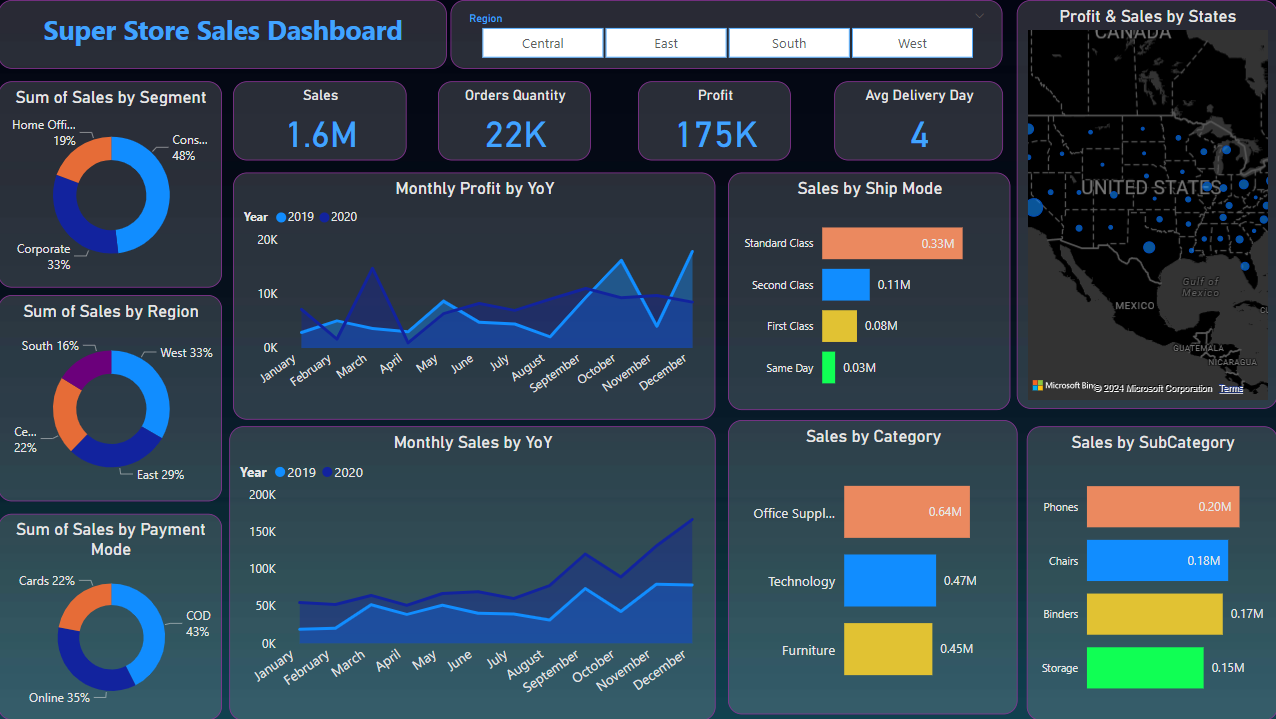

The page's visual inventory and layout, read from the dashboard file:
{"tool":"powerbi","page":{"name":"Page 1","canvas":[1280,720],"ordinal":0},"visuals":[{"type":"clusteredBarChart","title":"Sales by Category","fields":{"Category":["Sheet1.Category"],"Y":["Sum(Sheet1.Sales)"]},"box":[729.6,419.7,289.4,294.3],"z":0},{"type":"clusteredBarChart","title":"Sales by SubCategory","fields":{"Y":["Sum(Sheet1.Sales)"],"Category":["Sheet1.Sub-Category"]},"box":[1028.7,425.7,250.9,294.3],"z":1000},{"type":"clusteredBarChart","title":"Sales by Ship Mode","fields":{"Y":["Sum(Sheet1.Sales)"],"Category":["Sheet1.Ship Mode"]},"box":[729.6,172.5,282.2,237.6],"z":2000},{"type":"areaChart","title":"Monthly Sales by YoY","fields":{"Y":["Sum(Sheet1.Sales)"],"Category":["Sheet1.Order Date.Variation.Date Hierarchy.Month","Sheet1.Order Date.Variation.Date Hierarchy.Day"],"Series":["Sheet1.Order Date.Variation.Date Hierarchy.Year"]},"box":[231.6,425.7,486,294.3],"z":3000},{"type":"areaChart","title":"Monthly Profit by YoY","fields":{"Category":["Sheet1.Order Date.Variation.Date Hierarchy.Month","Sheet1.Order Date.Variation.Date Hierarchy.Day"],"Series":["Sheet1.Order Date.Variation.Date Hierarchy.Year"],"Y":["Sum(Sheet1.Profit)"]},"box":[235.2,172.5,482.4,247.2],"z":4000},{"type":"map","title":"Profit & Sales by States","fields":{"Category":["Sheet1.State"],"Size":["Sum(Sheet1.Sales)"]},"box":[1019.1,0,260.5,408.8],"z":5000},{"type":"donutChart","fields":{"Category":["Sheet1.Segment"],"Y":["Sum(Sheet1.Sales)"]},"box":[0,80.8,224.3,206.2],"z":6000},{"type":"donutChart","fields":{"Y":["Sum(Sheet1.Sales)"],"Category":["Sheet1.Payment Mode"]},"box":[0,513.8,224.3,206.2],"z":7000},{"type":"slicer","fields":{"Values":["Sheet1.Region"]},"box":[452.3,0,552.4,68.7],"z":8000},{"type":"textbox","box":[0,0,448.6,68.7],"z":9000},{"type":"card","title":"Sales","fields":{"Values":["Sum(Sheet1.Sales)"]},"box":[235.2,80.8,173.7,79.6],"z":10000},{"type":"card","title":"Orders Quantity","fields":{"Values":["Sum(Sheet1.Quantity)"]},"box":[440.2,80.8,153.2,79.6],"z":11000},{"type":"card","title":"Profit","fields":{"Values":["Sum(Sheet1.Profit)"]},"box":[640.4,80.8,153.2,79.6],"z":12000},{"type":"card","title":"Avg Delivery Day","fields":{"Values":["Avg(Sheet1.Average Delivery)"]},"box":[835.8,80.8,168.8,79.6],"z":13000},{"type":"donutChart","fields":{"Y":["Sum(Sheet1.Sales)"],"Category":["Sheet1.Region"]},"box":[0,295.5,224.3,206.2],"z":14000}]}

Visuals, with their boxes in screenshot pixels (x1, y1, x2, y2), scaled from the page's 1280x720 canvas onto the 1276x719 screenshot:
"Sales by Category" clusteredBarChart: [727,419,1016,713]
"Sales by SubCategory" clusteredBarChart: [1025,425,1275,718]
"Sales by Ship Mode" clusteredBarChart: [727,172,1009,410]
"Monthly Sales by YoY" areaChart: [231,425,715,718]
"Monthly Profit by YoY" areaChart: [234,172,715,419]
"Profit & Sales by States" map: [1016,0,1275,408]
donutChart - Sheet1.Segment x Sum(Sheet1.Sales): [0,81,224,287]
donutChart - Sum(Sheet1.Sales) x Sheet1.Payment Mode: [0,513,224,718]
slicer - Sheet1.Region: [451,0,1002,69]
textbox: [0,0,447,69]
"Sales" card: [234,81,408,160]
"Orders Quantity" card: [439,81,592,160]
"Profit" card: [638,81,791,160]
"Avg Delivery Day" card: [833,81,1001,160]
donutChart - Sum(Sheet1.Sales) x Sheet1.Region: [0,295,224,501]
